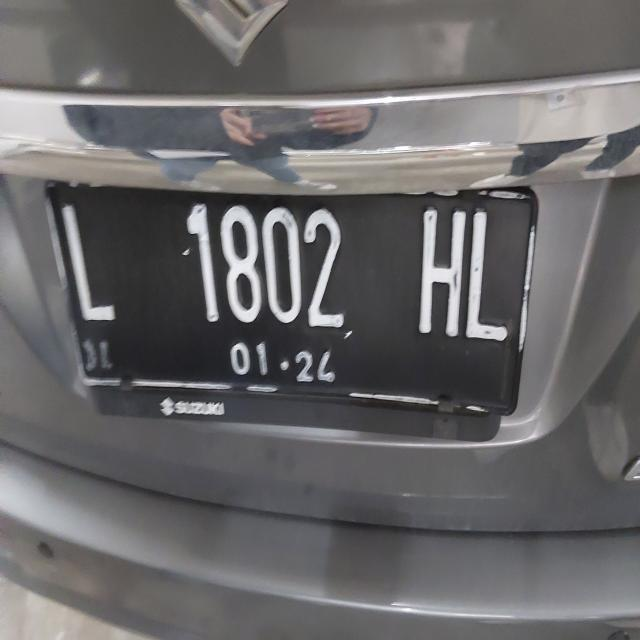0: (262, 202, 304, 331)
1: (181, 200, 236, 344)
2: (306, 205, 357, 348)
8: (217, 193, 265, 335)
H: (411, 186, 468, 338)
L: (48, 183, 130, 345), (455, 195, 517, 352)
